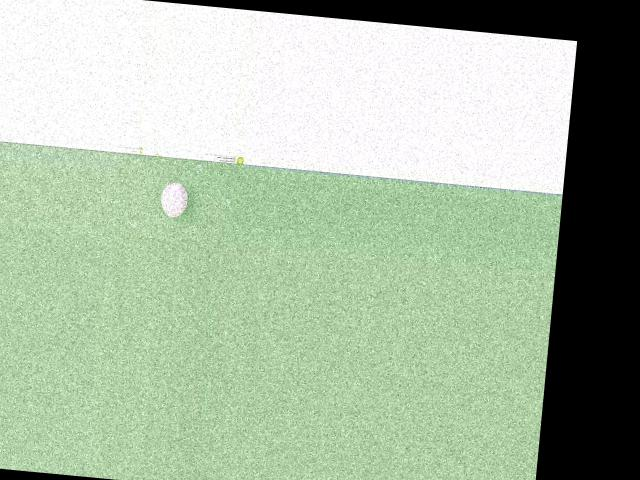egg: (159, 181, 189, 217)
